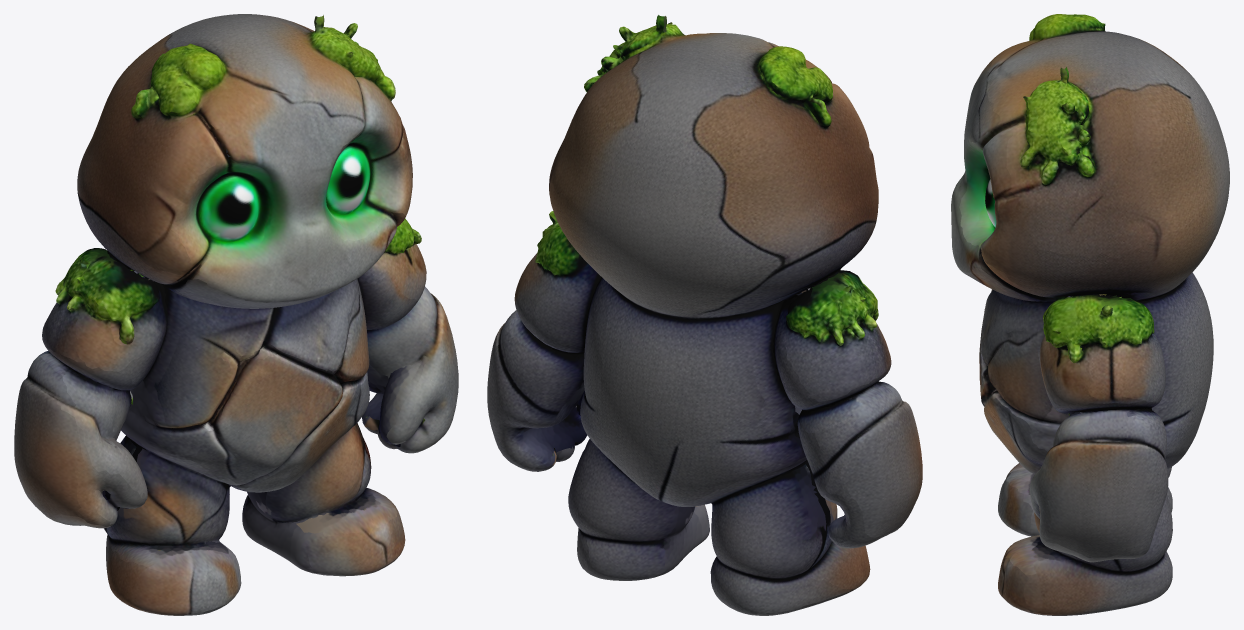
File: golem_model_lvl1.glb
3 views of the same model, side by side, from view 1: azimuth 30°, elevation 25°; view 2: azimuth 150°, elevation 25°; view 3: azimuth 270°, elevation 25° (orthographic). The views are drawn at different scales.
Visible parts, largest first — view 1: tmpi3qo9r6g.ply; view 2: tmpi3qo9r6g.ply; view 3: tmpi3qo9r6g.ply.
Part boxes in pixels (x1,y1,x2,y2): tmpi3qo9r6g.ply: [14, 14, 458, 615]; tmpi3qo9r6g.ply: [487, 15, 922, 615]; tmpi3qo9r6g.ply: [951, 14, 1229, 615].
Size of the model in its own units: 1.63 by 1.99 by 0.9595.
1 material, 1 textured.
